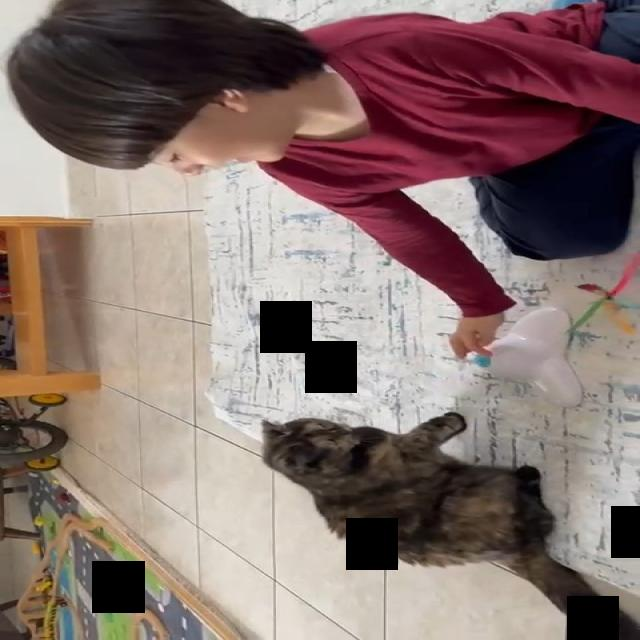authorized: (258, 412, 638, 640)
